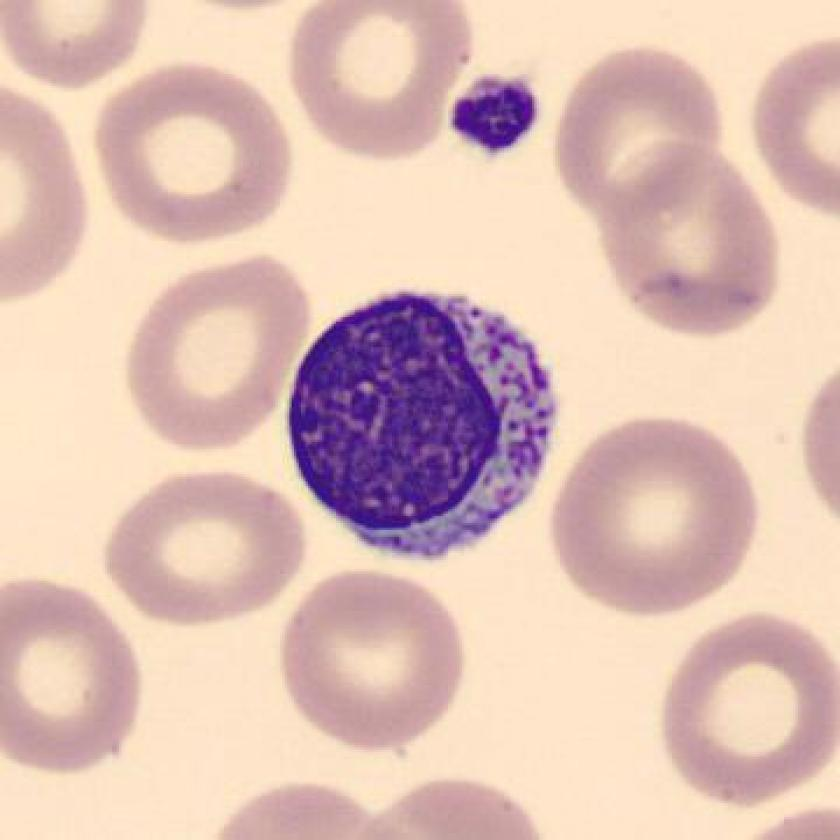lymphocyte: (267, 277, 580, 580)
